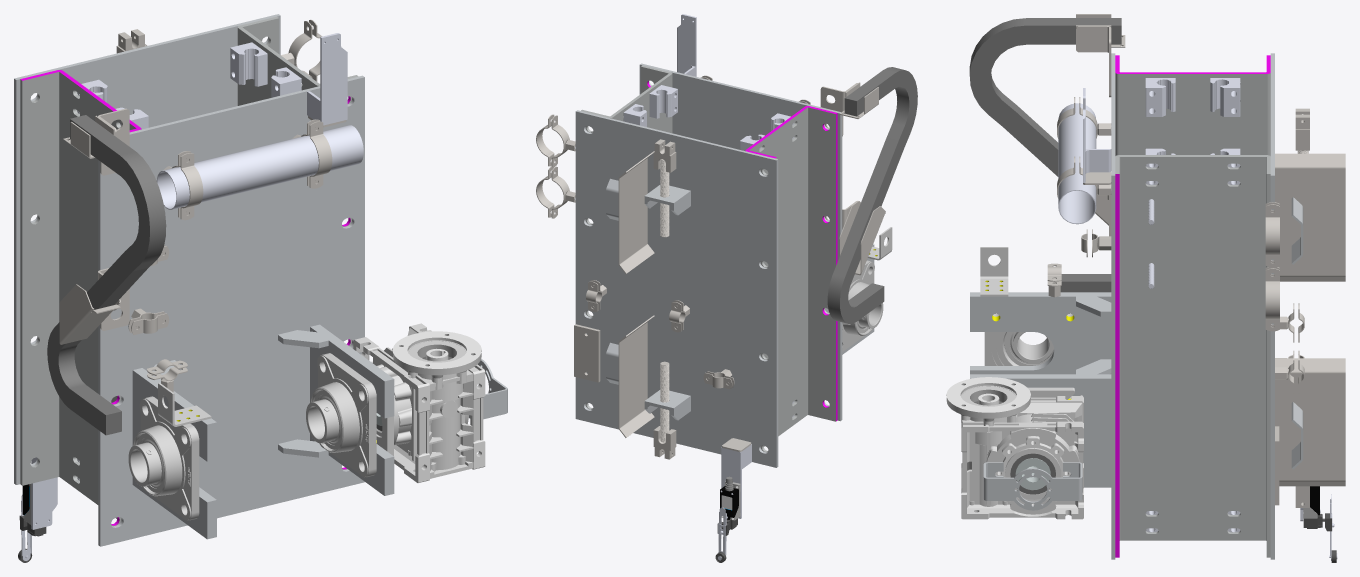
The model's file is GANTRY5EJES_07.glb.
The picture shows the model from 3 angles, left to right: view 1: azimuth 30°, elevation 25°; view 2: azimuth 150°, elevation 25°; view 3: azimuth 270°, elevation 25°; orthographic projection. The views are drawn at different scales.
Visible parts, largest first — view 1: Saliente-Extruir237, Cortar-Extruir055, Saliente-Extruir216, KM-63-T80-B14-1-solid1, Barrer2, Saliente-Extruir213, _FY 509 M_22_54.2_30.2-1-solid006, _FY 509 M_22_54.2_30.2-1-solid007, Saliente-Extruir235, Saliente-Extruir234, Taladro roscado M41, Cortar-Extruir061 (+16 smaller); view 2: Saliente-Extruir216, Cortar-Extruir055, Saliente-Extruir237, Barrer2, Redondeo021, Redondeo022, Cortar-Extruir061, Taladro roscado M81, Taladro roscado M41, Cortar-Extruir050, _FY 509 M_22_54.2_30.2-1-solid007, Taladro roscado M41 (1) (+11 smaller); view 3: Cortar-Extruir061, KM-63-T80-B14-1-solid1, Cortar-Extruir055, Redondeo021, Redondeo022, Saliente-Extruir234, Barrer2, Saliente-Extruir235, Saliente-Extruir213, Cortar-Extruir071, Saliente-Extruir237, Saliente-Extruir216 (+14 smaller).
Part boxes in pixels (x1=…): Saliente-Extruir237: x1=98, y1=75, x2=364, y2=546; Cortar-Extruir055: x1=20, y1=70, x2=141, y2=526; Saliente-Extruir216: x1=14, y1=14, x2=280, y2=484; KM-63-T80-B14-1-solid1: x1=353, y1=323, x2=485, y2=482; Barrer2: x1=47, y1=115, x2=166, y2=435; Saliente-Extruir213: x1=156, y1=125, x2=363, y2=209; _FY 509 M_22_54.2_30.2-1-solid006: x1=310, y1=353, x2=376, y2=477; _FY 509 M_22_54.2_30.2-1-solid007: x1=133, y1=396, x2=199, y2=520; Saliente-Extruir235: x1=310, y1=324, x2=394, y2=495; Saliente-Extruir234: x1=132, y1=368, x2=216, y2=539; Taladro roscado M41: x1=307, y1=33, x2=347, y2=125; Cortar-Extruir061: x1=237, y1=16, x2=358, y2=469; Saliente-Extruir216: x1=575, y1=110, x2=778, y2=467; Cortar-Extruir055: x1=745, y1=106, x2=837, y2=452; Saliente-Extruir237: x1=639, y1=63, x2=842, y2=421; Barrer2: x1=827, y1=67, x2=917, y2=323; Redondeo021: x1=618, y1=151, x2=654, y2=273; Redondeo022: x1=618, y1=315, x2=654, y2=437; Cortar-Extruir061: x1=581, y1=65, x2=672, y2=409; Taladro roscado M81: x1=574, y1=324, x2=600, y2=382; Taladro roscado M41: x1=677, y1=14, x2=696, y2=76; Cortar-Extruir050: x1=839, y1=201, x2=885, y2=275; _FY 509 M_22_54.2_30.2-1-solid007: x1=842, y1=260, x2=874, y2=351; Taladro roscado M41 (1): x1=721, y1=444, x2=751, y2=518; Cortar-Extruir061: x1=1115, y1=155, x2=1270, y2=557; KM-63-T80-B14-1-solid1: x1=946, y1=377, x2=1083, y2=519; Cortar-Extruir055: x1=1115, y1=55, x2=1270, y2=155; Redondeo021: x1=1275, y1=153, x2=1345, y2=281; Redondeo022: x1=1275, y1=358, x2=1345, y2=486; Saliente-Extruir234: x1=970, y1=292, x2=1111, y2=374; Barrer2: x1=969, y1=18, x2=1121, y2=292; Saliente-Extruir235: x1=970, y1=374, x2=1111, y2=487; Saliente-Extruir213: x1=1058, y1=103, x2=1096, y2=224; Cortar-Extruir071: x1=983, y1=462, x2=1082, y2=510; Saliente-Extruir237: x1=1111, y1=53, x2=1115, y2=559; Saliente-Extruir216: x1=1270, y1=53, x2=1274, y2=559.
Bounding box in the file's own units: 581 × 860 × 565.
